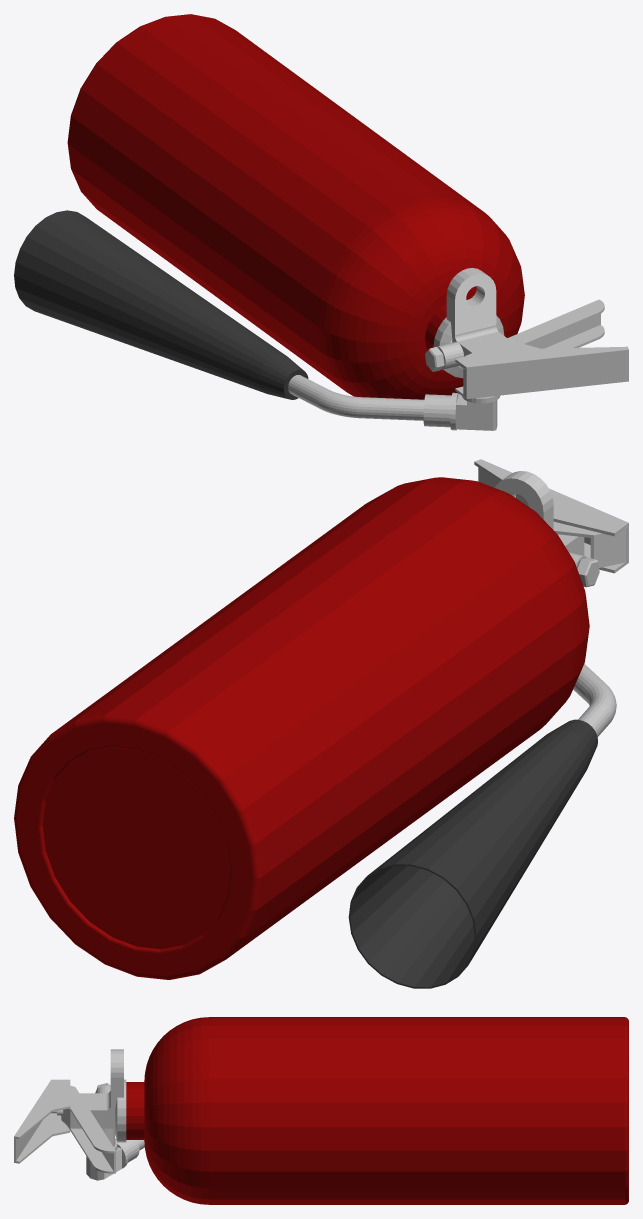
The picture shows the model from 3 angles, top to bottom: view 1: azimuth 30°, elevation 25°; view 2: azimuth 150°, elevation 25°; view 3: azimuth 270°, elevation 25°; orthographic projection. The views are drawn at different scales.
Visible parts, largest first — view 1: fire extinguisher; view 2: fire extinguisher; view 3: fire extinguisher.
Boxes of the visible parts, bbox=[...] form: fire extinguisher: bbox=[14, 14, 628, 430]; fire extinguisher: bbox=[14, 459, 628, 988]; fire extinguisher: bbox=[14, 1017, 628, 1204].
Size of the model in its own units: 9.03 by 5.47 by 17.13.
